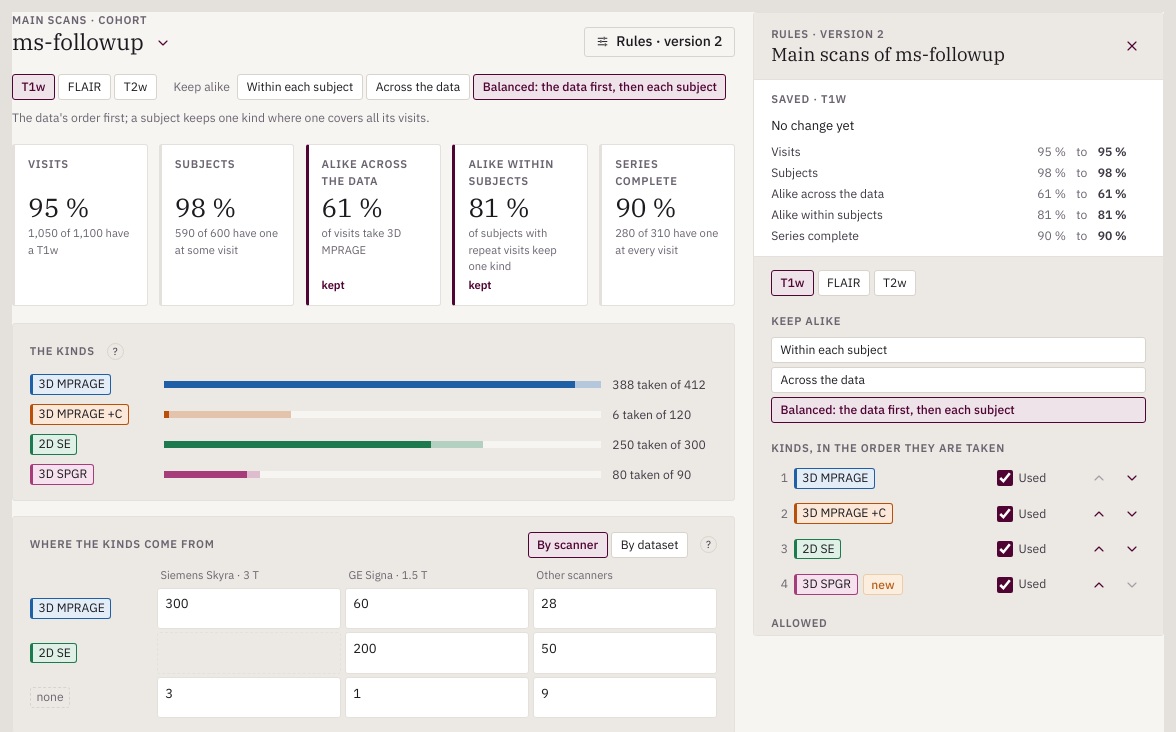
Test: the Rules panel › opens beside the page with the effect first, the saved version's, and nothing changed
Check: the text with class "eyebrow" reads "Rules · version 2", box [771, 27, 884, 41]
Check: the heading "Main scans of ms-followup" is shown, box [771, 42, 1005, 66]
Step 1. Click the button named "Close the rules" → (1132, 46), box [1118, 32, 1146, 60]
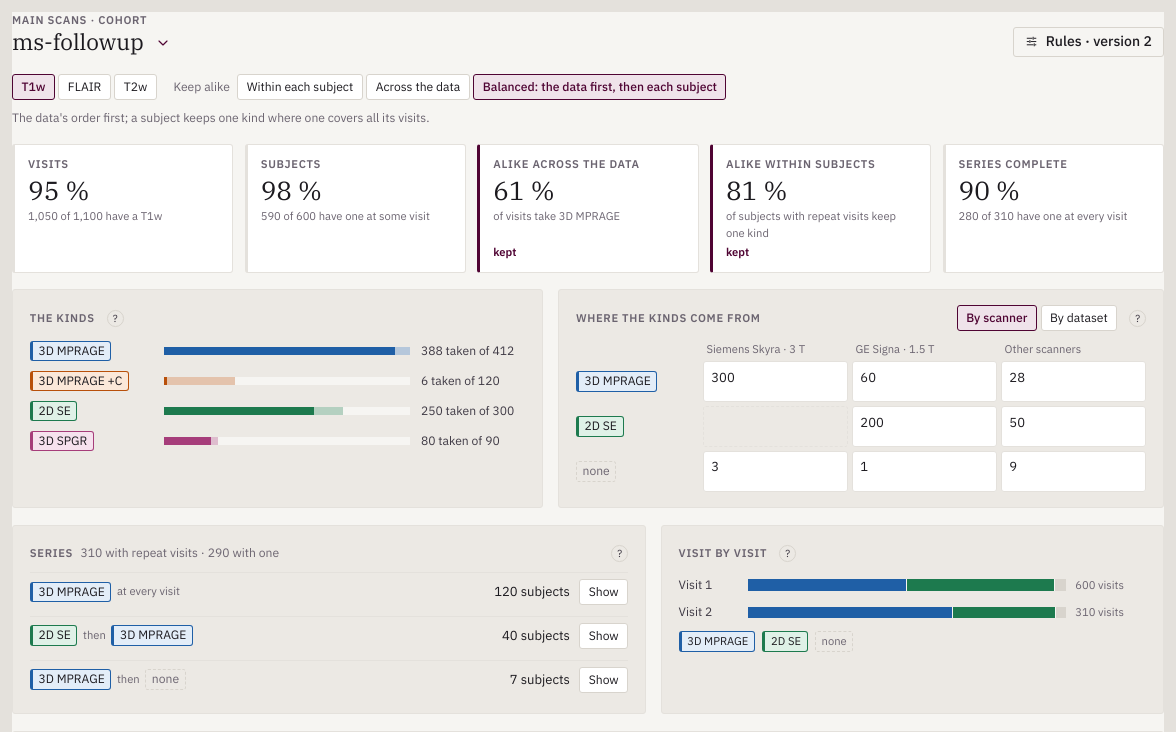
Check: the element with class "ms-rules" is gone
Check: the button with class "ms-rules-toggle" is collapsed, box [1013, 27, 1164, 57]
